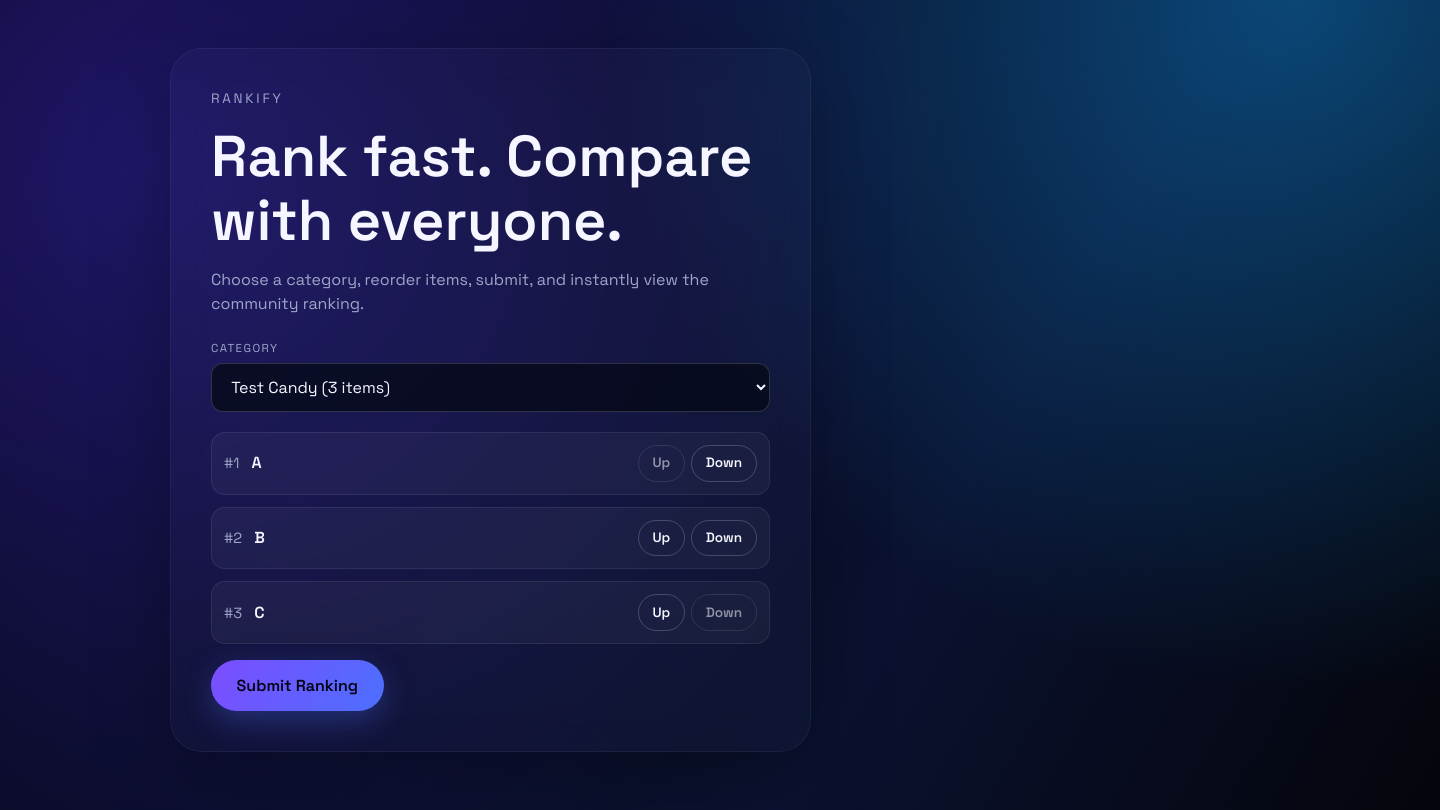
Test case: App › loads category, submits ranking, and shows community output
Expected: the heading "Rank fast. Compare with everyone." is shown, [211, 125, 770, 252]
Click the button "Submit Ranking": (297, 686) [211, 660, 384, 711]
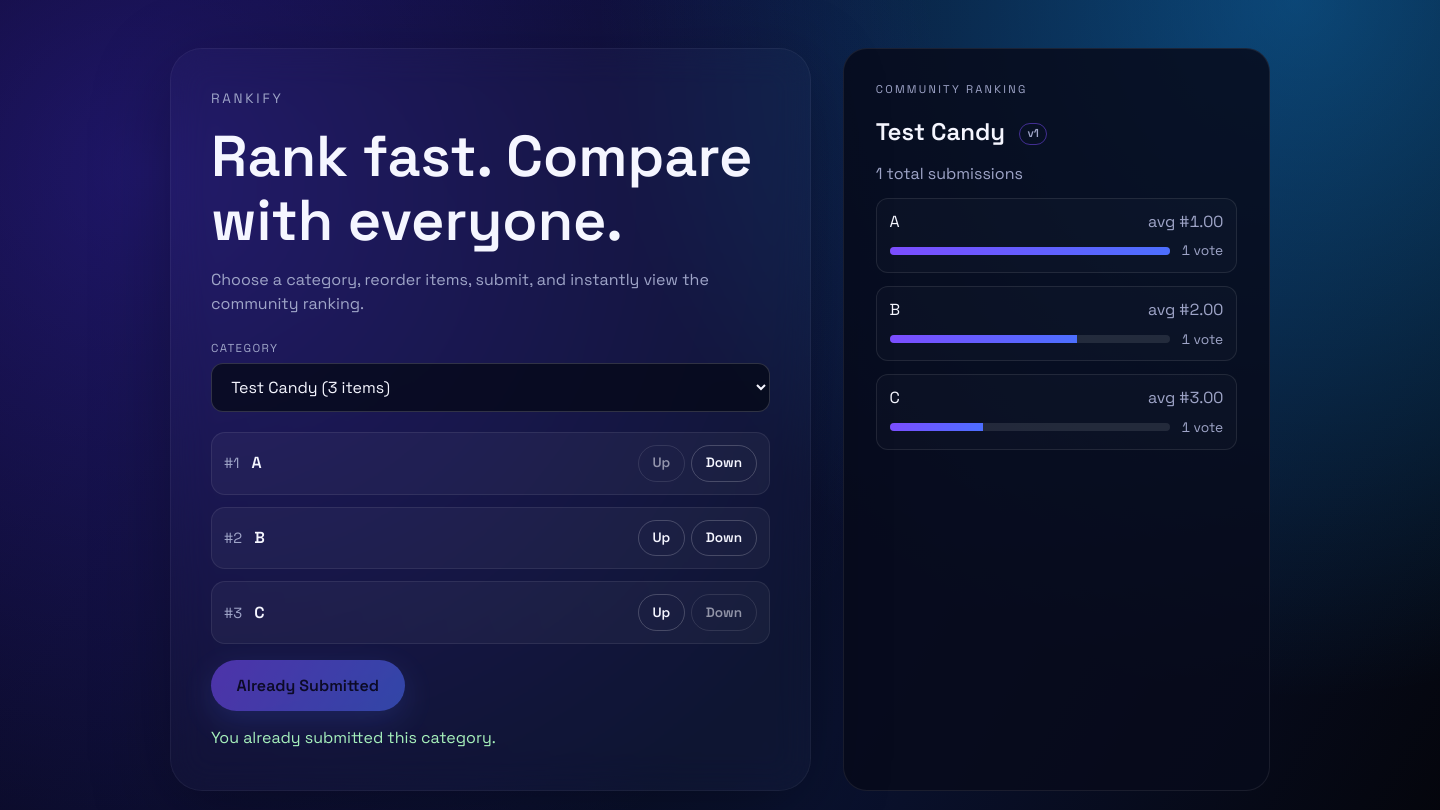
Result: the text "1 total submissions" is shown at [876, 163, 1023, 184]
Result: the text "avg #1.00" is shown at [1148, 210, 1223, 234]
Result: the button "Already Submitted" is disabled at [211, 660, 405, 711]
